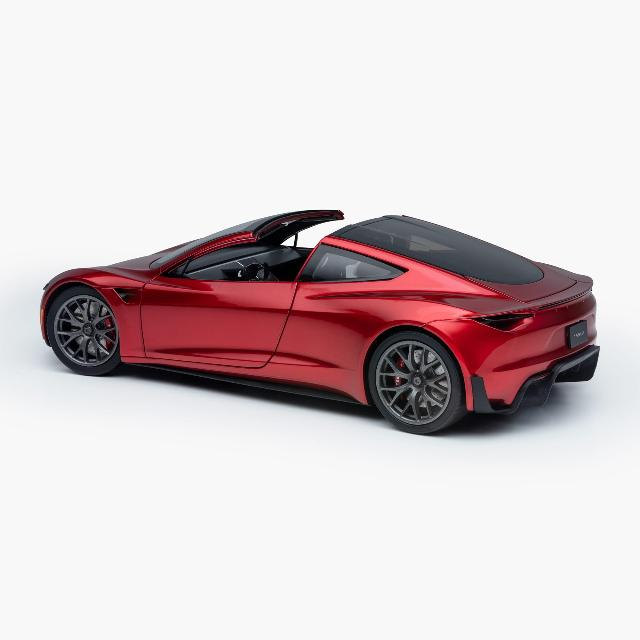tesla: (39, 209, 602, 435)
